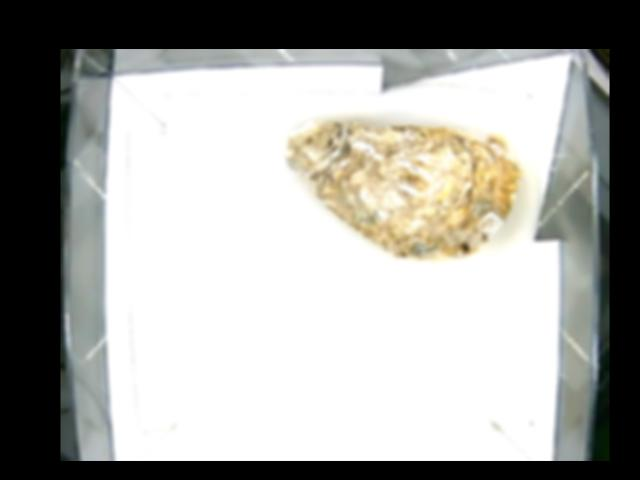Shell: (283, 120, 520, 261)
